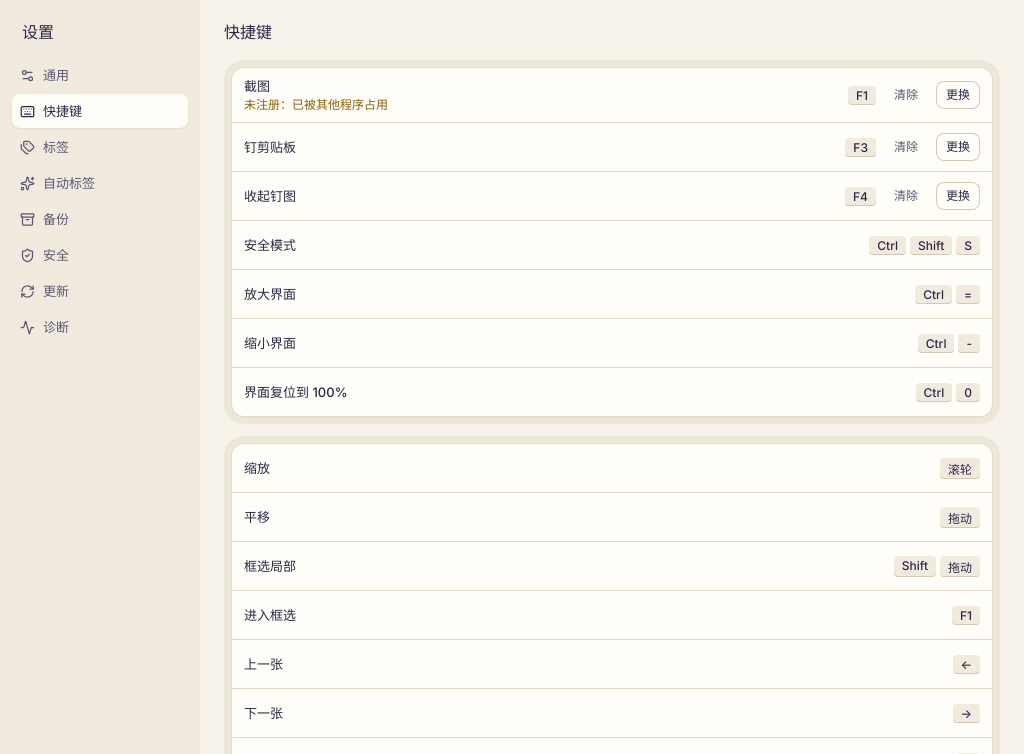
it: 设置：常驻与快捷键 › 更换被拒绝时显示原因，原来的键不变
Click the button "更换" in the row of "F4" at (958,196), box [936,182,980,210]
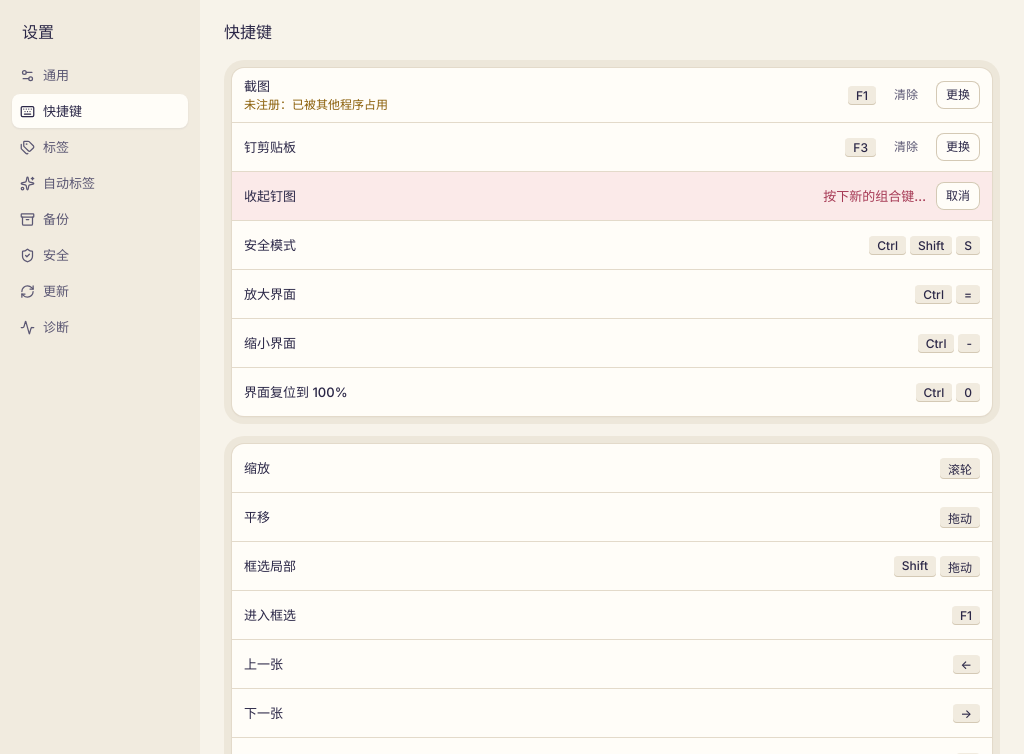
Press F3 in the field, box [788,185,928,207]
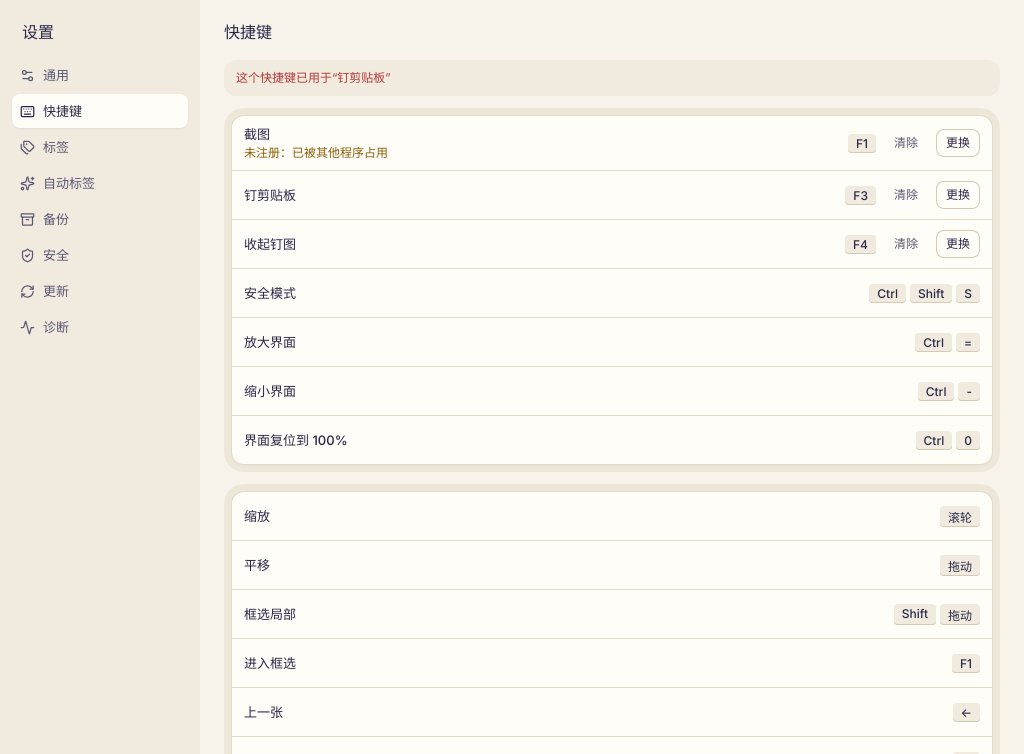
Result: the message reads "这个快捷键已用于“钉剪贴板”" at [236,70,391,85]
Result: the text "F4" is shown at [845,234,876,254]
